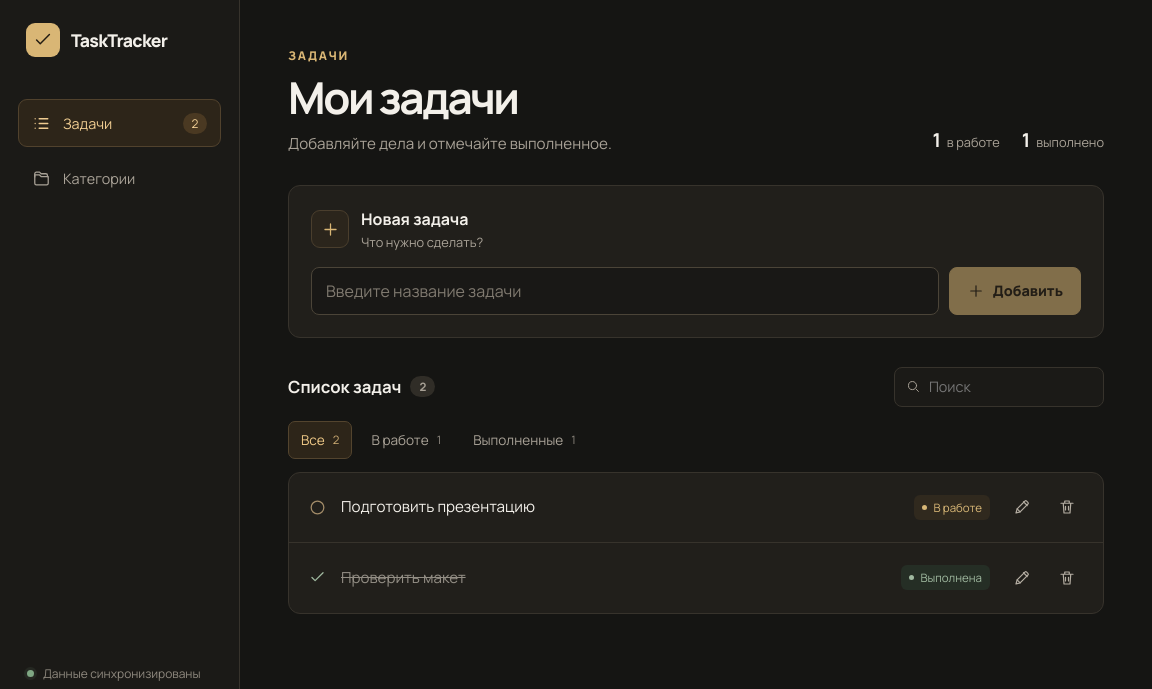
Scenario: TaskTracker › keeps the editor draft and original task on PATCH failure
Expected: the text "Подготовить презентацию" is shown, [341,496,535,517]
Click the button named "Изменить задачу: Подготовить презентацию" at (1022, 507), box [1003,488,1041,526]
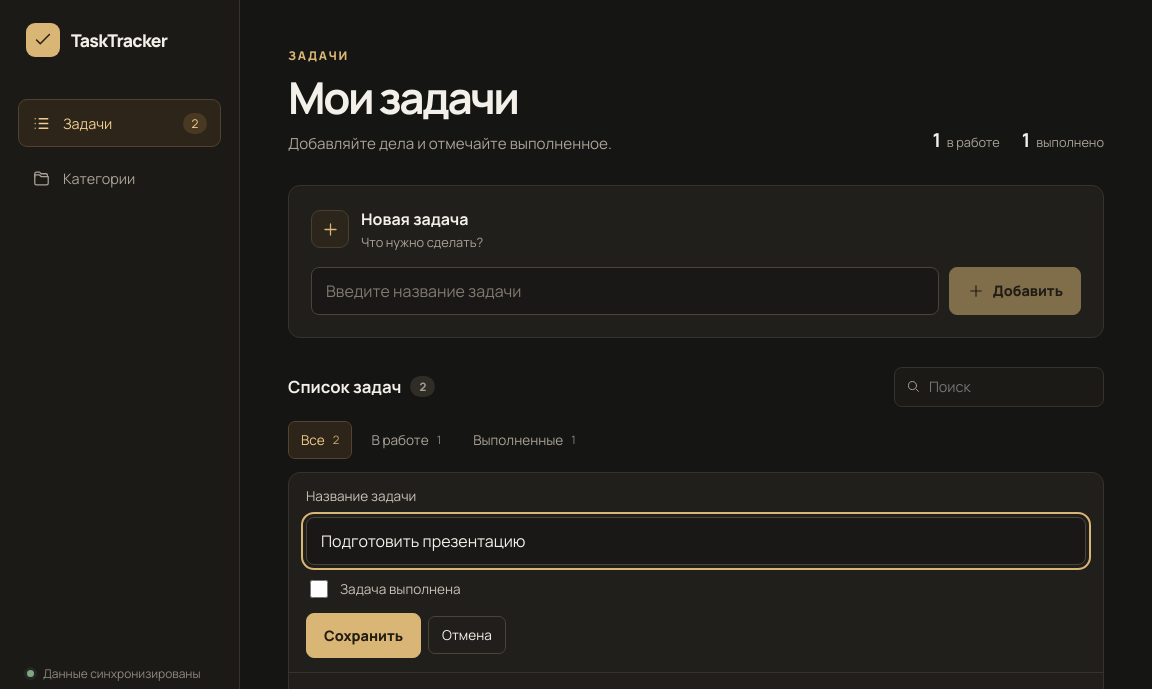
Replace the text in the field labelled "Название задачи" with "Черновик изменения" at (696, 541), box [306,517,1086,565]
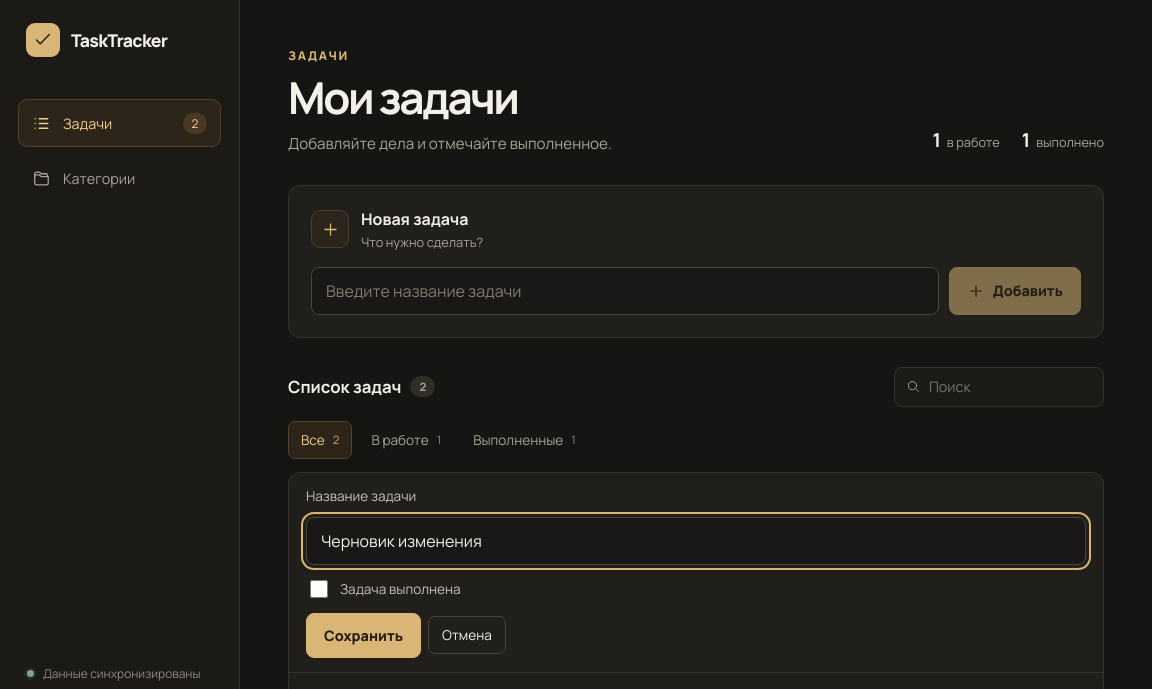
Click the button "Сохранить" at (364, 635), box [306,613,421,658]
(page scrolled)
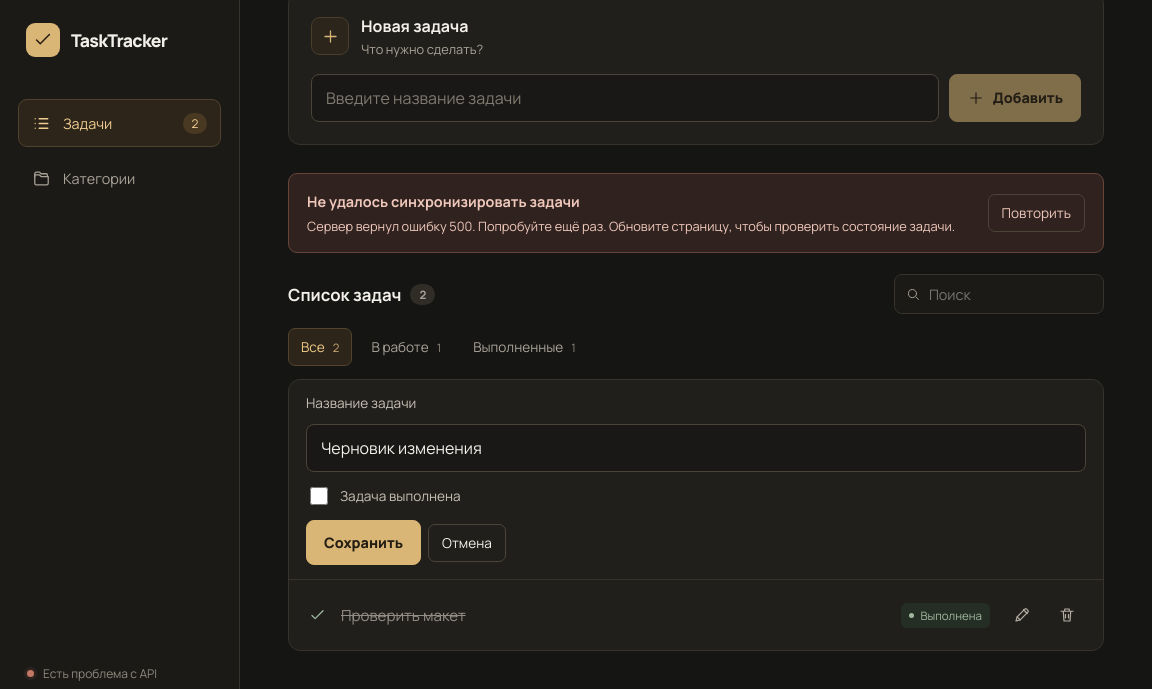
Expected: the message is shown, [288,173,1104,253]
Click the button "Отмена" at (467, 543), box [428,524,506,562]
(page scrolled)
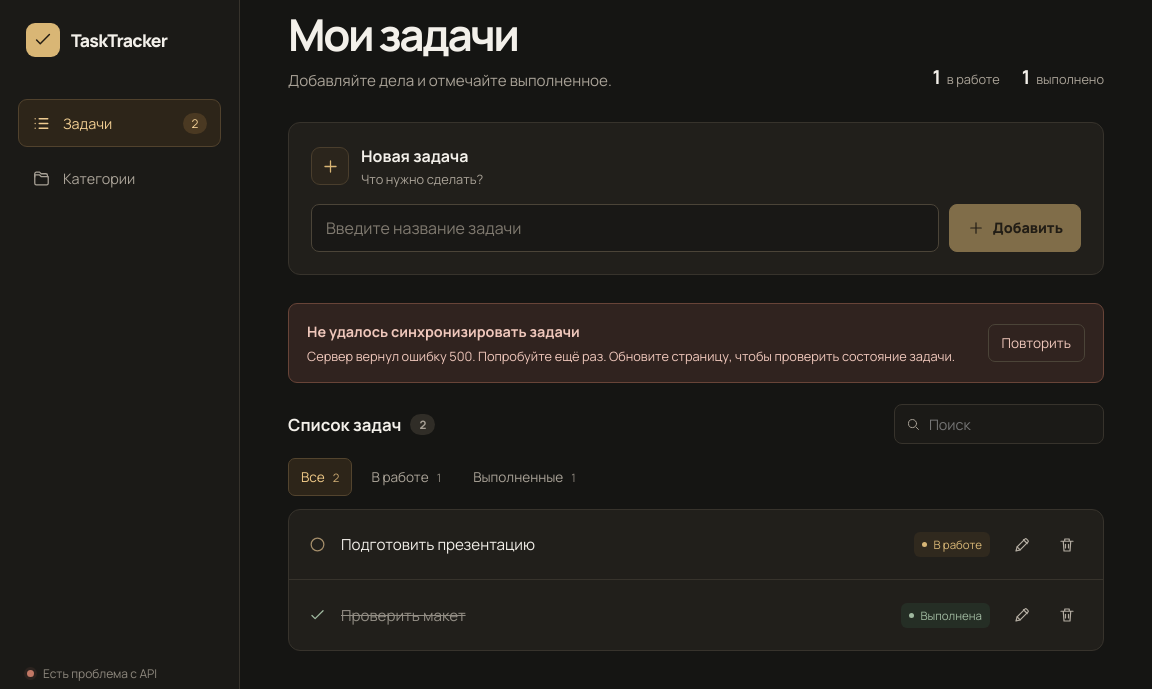
Expected: the text "Подготовить презентацию" is shown, [341,534,535,555]
